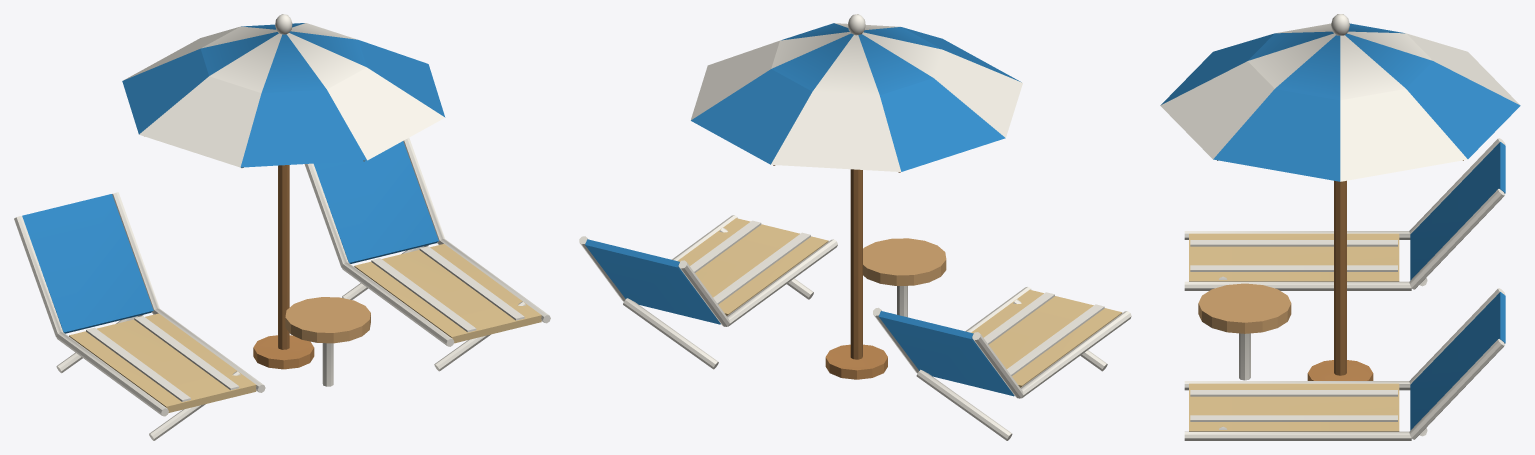
Rendered from beach-set.glb.
The picture shows the model from 3 angles, left to right: view 1: azimuth 30°, elevation 25°; view 2: azimuth 150°, elevation 25°; view 3: azimuth 270°, elevation 25°; orthographic projection. The views are drawn at different scales.
Parts seen in each view (by area): view 1: sewn canvas panel.001, sewn canvas panel, lounger fabric, umbrella foot, beach side table; view 2: sewn canvas panel, sewn canvas panel.001, lounger fabric, umbrella foot, beach side table; view 3: sewn canvas panel, sewn canvas panel.001, lounger fabric, beach side table, umbrella foot.
Boxes of the visible parts, left/top/right/bottom form: sewn canvas panel.001: left=22, top=23, right=445, bottom=333; sewn canvas panel: left=14, top=14, right=550, bottom=440; lounger fabric: left=69, top=244, right=541, bottom=412; umbrella foot: left=241, top=160, right=365, bottom=369; beach side table: left=285, top=297, right=370, bottom=343; sewn canvas panel: left=579, top=14, right=1131, bottom=440; sewn canvas panel.001: left=585, top=23, right=1021, bottom=396; lounger fabric: left=677, top=218, right=1122, bottom=387; umbrella foot: left=773, top=165, right=900, bottom=379; beach side table: left=863, top=238, right=946, bottom=285; sewn canvas panel: left=1160, top=14, right=1520, bottom=440; sewn canvas panel.001: left=1160, top=23, right=1520, bottom=430; lounger fabric: left=1189, top=233, right=1399, bottom=431; beach side table: left=1198, top=283, right=1291, bottom=333; umbrella foot: left=1217, top=160, right=1463, bottom=380.
Bounding box in the file's own units: 1.78 × 1.49 × 1.32.
